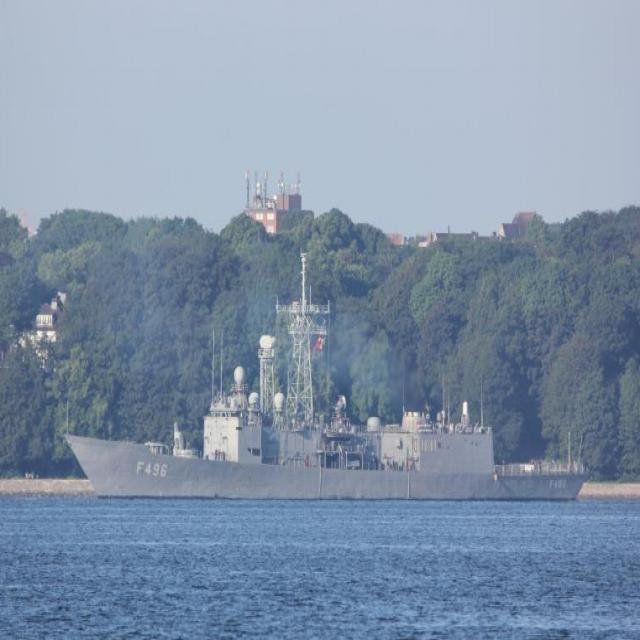Fragata: (59, 249, 599, 508)
